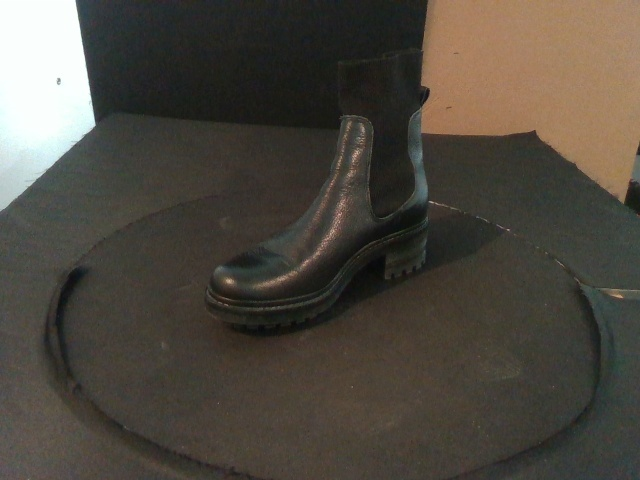shoe: (202, 49, 431, 337)
